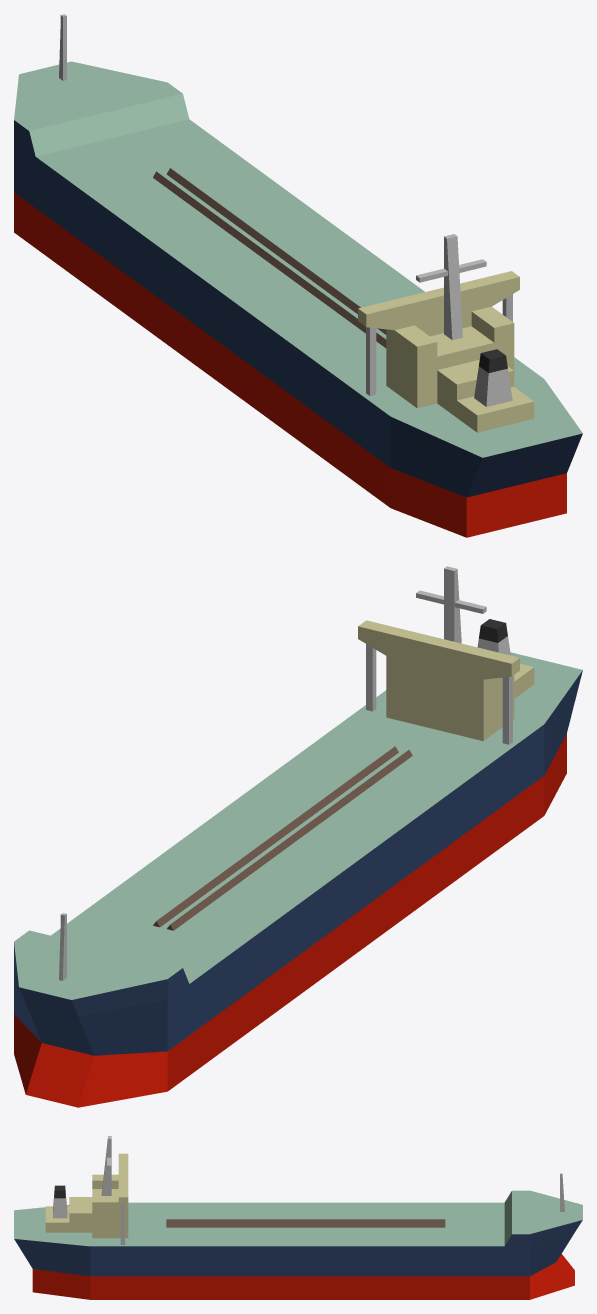
File: icebreaker02.fbx
The picture shows the model from 3 angles, top to bottom: view 1: azimuth 30°, elevation 25°; view 2: azimuth 150°, elevation 25°; view 3: azimuth 270°, elevation 25°; orthographic projection. The views are drawn at different scales.
Parts seen in each view (by area): view 1: Icebreaker_02; view 2: Icebreaker_02; view 3: Icebreaker_02.
Boxes of the visible parts, x1,y1,x2,y2 form: Icebreaker_02: (14,14,582,537); Icebreaker_02: (14,566,582,1107); Icebreaker_02: (14,1136,582,1299).
Size of the model in its own units: 997 by 1492 by 5477.
